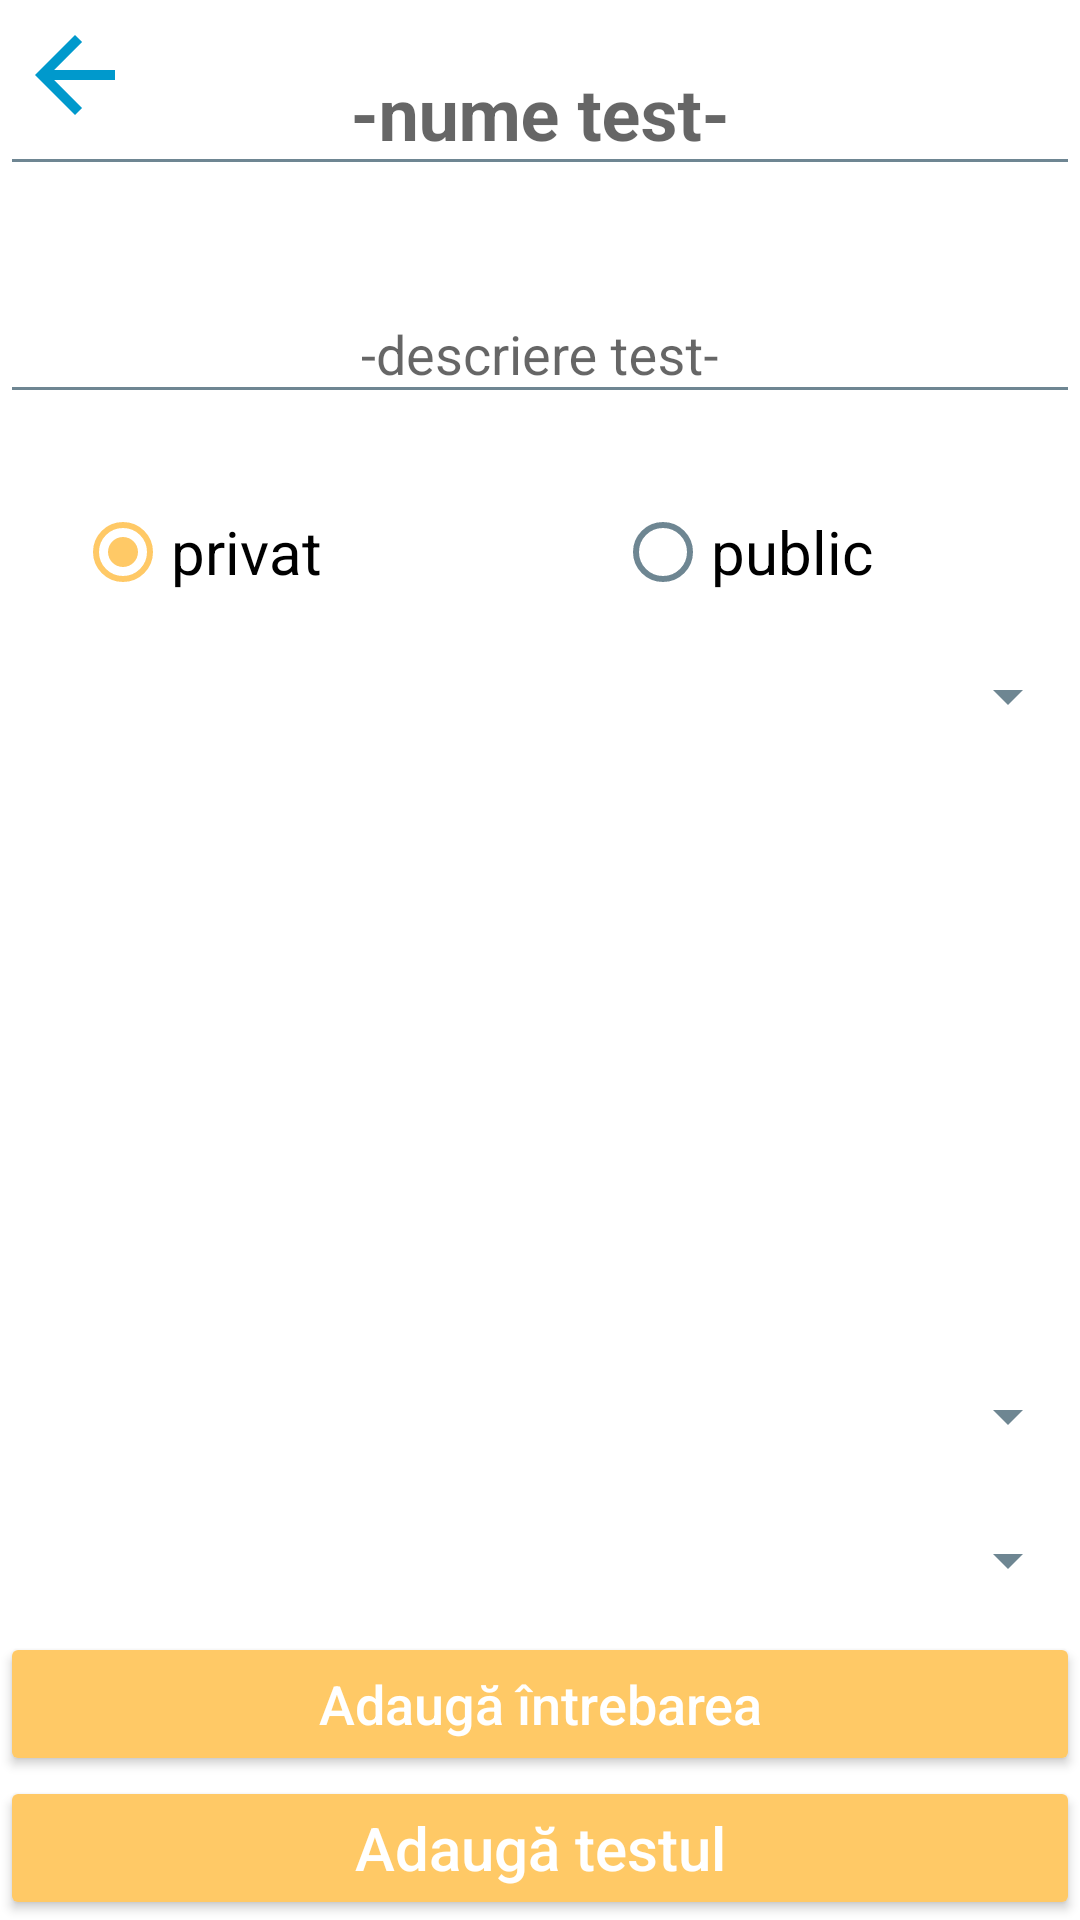

Screen size 1080 × 1920. Icon name, then its box in pixels as (x1, y1, x2, y2):
inapoi: (35, 35, 115, 115)
